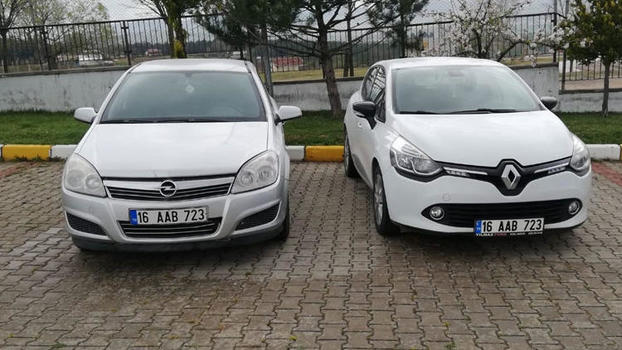plate: (124, 205, 206, 229)
